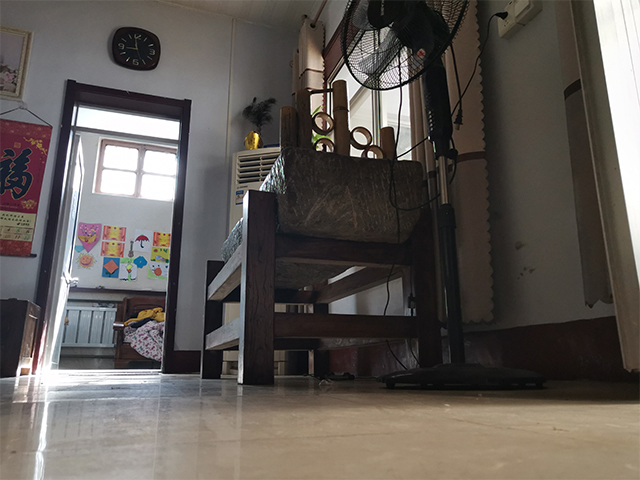stool: (110, 290, 168, 371)
